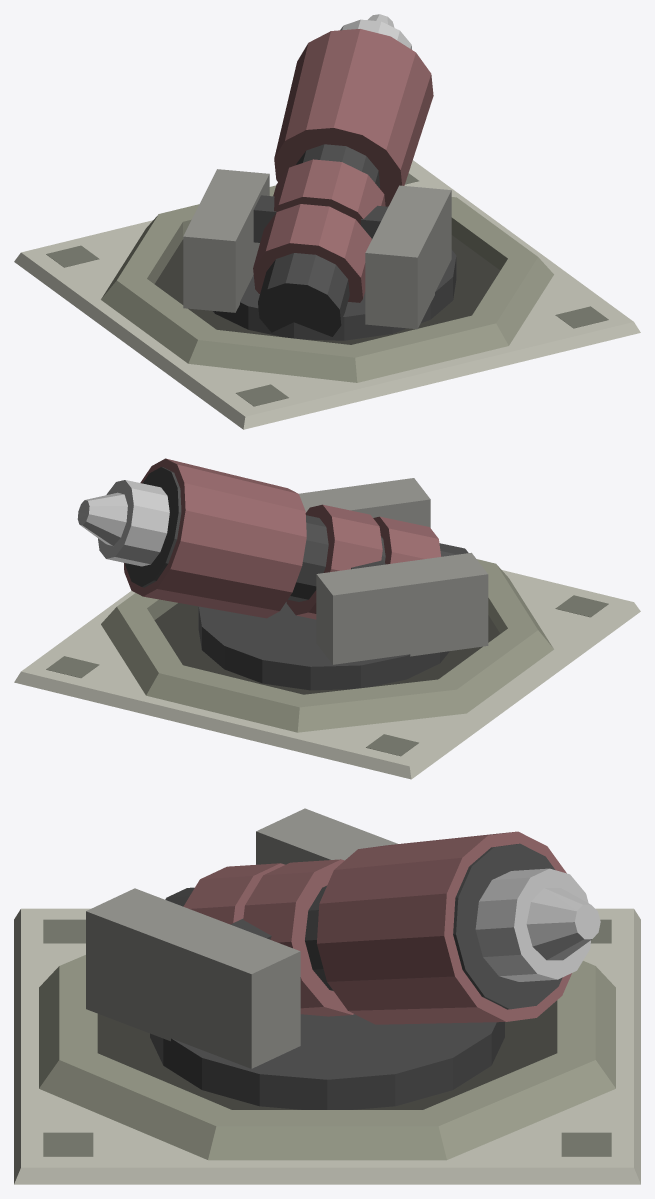
File: anticraft_beam.obj
3 renders of one model, top to bottom at view 1: azimuth 30°, elevation 25°; view 2: azimuth 150°, elevation 25°; view 3: azimuth 270°, elevation 25°, orthographic. The views are drawn at different scales.
Visible parts, largest first — view 1: anticraft_beam_0, anticraft_beam_22, anticraft_beam_15, anticraft_beam_17, anticraft_beam_19, anticraft_beam_20, anticraft_beam_5, anticraft_beam_6, anticraft_beam_9, anticraft_beam_21, anticraft_beam_4, anticraft_beam_14 (+8 smaller); view 2: anticraft_beam_0, anticraft_beam_22, anticraft_beam_17, anticraft_beam_14, anticraft_beam_3, anticraft_beam_2, anticraft_beam_4, anticraft_beam_9, anticraft_beam_24, anticraft_beam_21, anticraft_beam_15, anticraft_beam_1 (+9 smaller); view 3: anticraft_beam_0, anticraft_beam_15, anticraft_beam_22, anticraft_beam_14, anticraft_beam_8, anticraft_beam_1, anticraft_beam_7, anticraft_beam_9, anticraft_beam_24, anticraft_beam_21, anticraft_beam_23, anticraft_beam_2 (+8 smaller).
Boxes of the visible parts, box(x1,y1,x2,y2) form: anticraft_beam_0: box(14, 160, 640, 429); anticraft_beam_22: box(274, 29, 433, 206); anticraft_beam_15: box(365, 185, 451, 329); anticraft_beam_17: box(183, 169, 269, 312); anticraft_beam_19: box(258, 144, 380, 336); anticraft_beam_20: box(253, 204, 371, 302); anticraft_beam_5: box(188, 329, 357, 382); anticraft_beam_6: box(351, 315, 508, 382); anticraft_beam_9: box(154, 235, 500, 344); anticraft_beam_21: box(273, 159, 385, 224); anticraft_beam_4: box(101, 278, 216, 363); anticraft_beam_14: box(213, 250, 456, 340); anticraft_beam_0: box(14, 570, 640, 779); anticraft_beam_22: box(124, 458, 306, 618); anticraft_beam_17: box(316, 552, 488, 664); anticraft_beam_14: box(198, 602, 449, 690); anticraft_beam_3: box(297, 679, 466, 732); anticraft_beam_2: box(146, 665, 303, 732); anticraft_beam_4: box(438, 628, 553, 712); anticraft_beam_9: box(154, 603, 500, 694); anticraft_beam_24: box(98, 480, 169, 566); anticraft_beam_21: box(286, 504, 382, 619); anticraft_beam_15: box(299, 478, 430, 527); anticraft_beam_1: box(101, 606, 182, 695); anticraft_beam_0: box(14, 908, 640, 1184); anticraft_beam_15: box(86, 888, 300, 1068); anticraft_beam_22: box(317, 831, 571, 1024); anticraft_beam_14: box(150, 1014, 504, 1109); anticraft_beam_8: box(208, 1110, 446, 1160); anticraft_beam_1: box(423, 1053, 615, 1159); anticraft_beam_7: box(39, 1053, 231, 1159); anticraft_beam_9: box(97, 1000, 557, 1109); anticraft_beam_24: box(475, 868, 590, 981); anticraft_beam_21: box(243, 859, 353, 1016); anticraft_beam_23: box(453, 843, 562, 1009); anticraft_beam_2: box(557, 966, 615, 1087).
Size of the model in its own units: 9 by 4.4 by 9.
